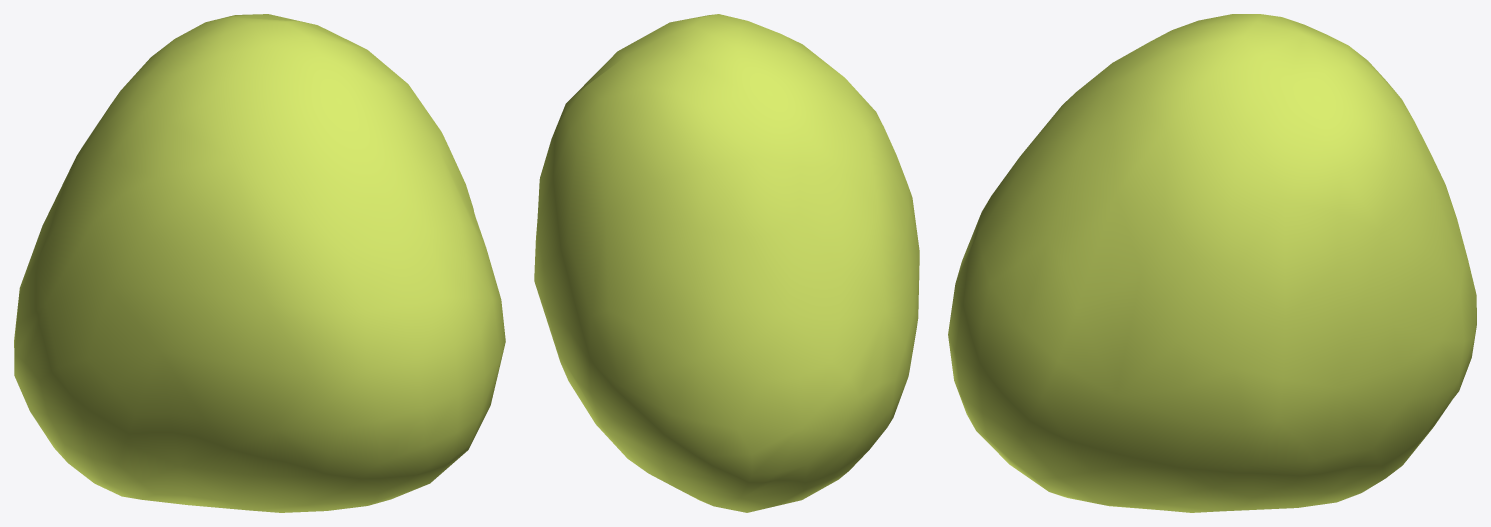
The model's file is Bush_C.fbx.
3 renders of one model, left to right at view 1: azimuth 30°, elevation 25°; view 2: azimuth 150°, elevation 25°; view 3: azimuth 270°, elevation 25°, orthographic. The views are drawn at different scales.
Visible parts, largest first — view 1: Bush_f_m_04; view 2: Bush_f_m_04; view 3: Bush_f_m_04.
Boxes of the visible parts, x1,y1,x2,y2 form: Bush_f_m_04: (14,14,505,512); Bush_f_m_04: (534,14,919,512); Bush_f_m_04: (948,14,1476,512).
Size of the model in its own units: 144 by 164 by 161.
